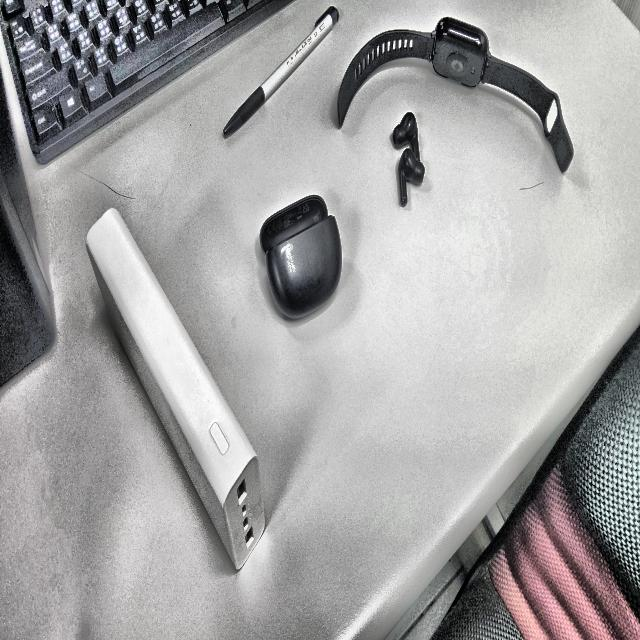Bluetooth headphones: (259, 195, 342, 319), (393, 112, 424, 206)
Electronic watch: (433, 17, 488, 86)
Keyboard: (0, 0, 291, 164)
Power bank: (87, 209, 265, 569)
